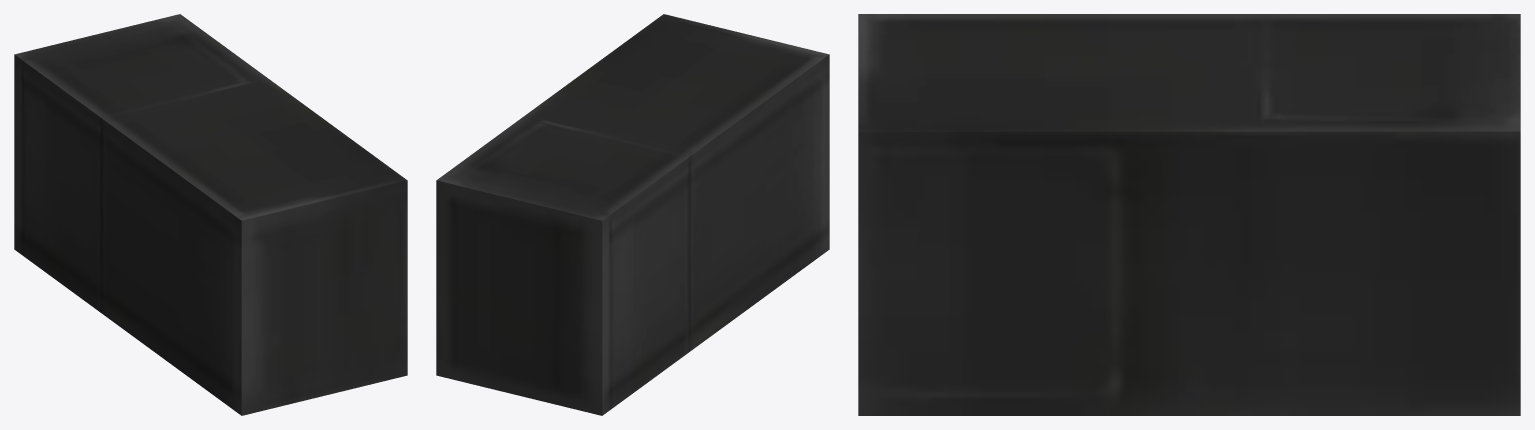
Rendered from frame__rear_drop.glb.
3 renders of one model, left to right at view 1: azimuth 30°, elevation 25°; view 2: azimuth 150°, elevation 25°; view 3: azimuth 270°, elevation 25°, orthographic. The views are drawn at different scales.
Visible parts, largest first — view 1: world; view 2: world; view 3: world.
Boxes of the visible parts, x1,y1,x2,y2 form: world: (14, 14, 407, 415); world: (436, 14, 829, 415); world: (858, 14, 1520, 415).
Size of the model in its own units: 0.08 by 0.09 by 0.19.
Materials: 1 (1 with a texture image).
